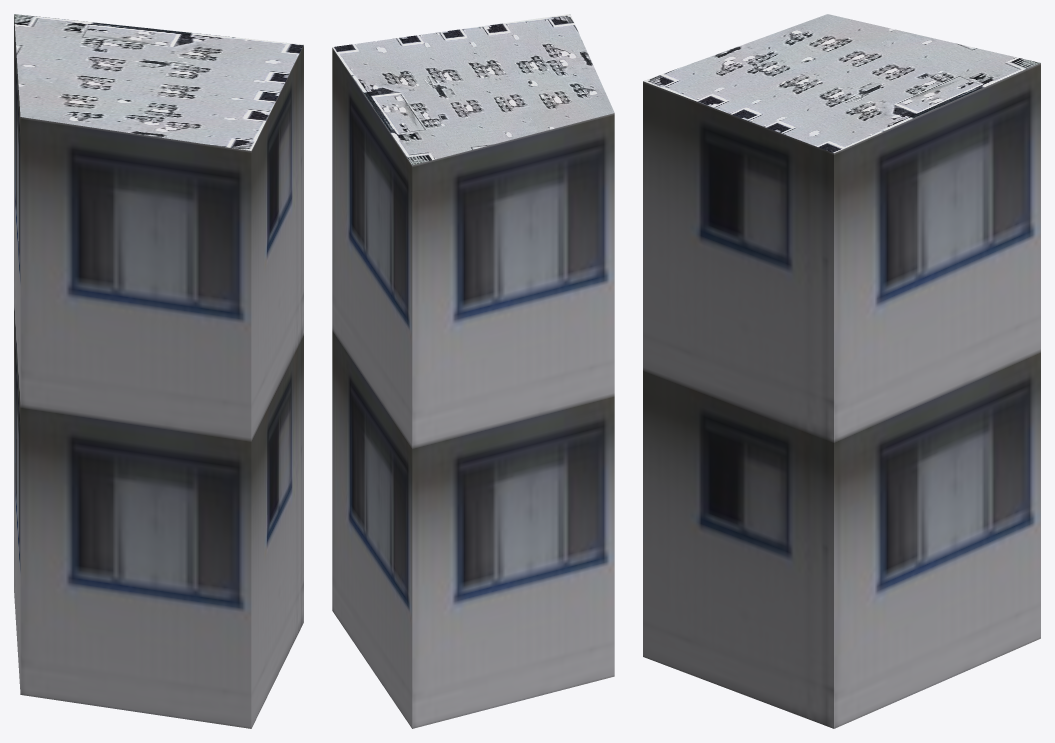
The model's file is ResTex__837.fbx.
3 views of the same model, side by side, from view 1: azimuth 30°, elevation 25°; view 2: azimuth 150°, elevation 25°; view 3: azimuth 270°, elevation 25° (orthographic). The views are drawn at different scales.
Visible parts, largest first — view 1: CityEngineMaterial_9_m, CityEngineMaterial_4_m; view 2: CityEngineMaterial_9_m, CityEngineMaterial_4_m; view 3: CityEngineMaterial_9_m, CityEngineMaterial_4_m.
Boxes of the visible parts, <box> form: CityEngineMaterial_9_m: <box>14,15,303,728</box>; CityEngineMaterial_4_m: <box>14,14,303,150</box>; CityEngineMaterial_9_m: <box>332,48,614,728</box>; CityEngineMaterial_4_m: <box>332,14,614,165</box>; CityEngineMaterial_9_m: <box>643,63,1040,728</box>; CityEngineMaterial_4_m: <box>643,14,1040,152</box>.
Size of the model in its own units: 3.11 by 6 by 3.76.
Materials: 2 (2 with a texture image).
